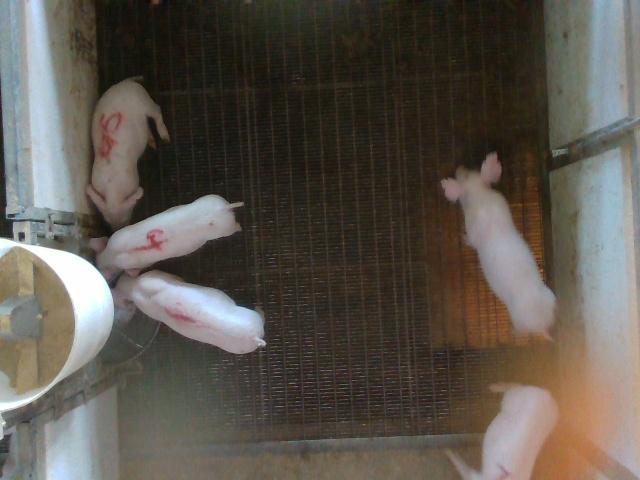pig-1: (112, 270, 266, 353)
pig-4: (96, 195, 242, 281)
pig-5: (86, 76, 170, 231)
